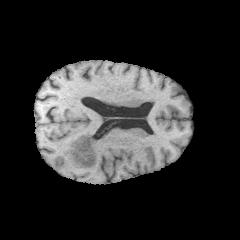glioma: (58, 128, 108, 175)
